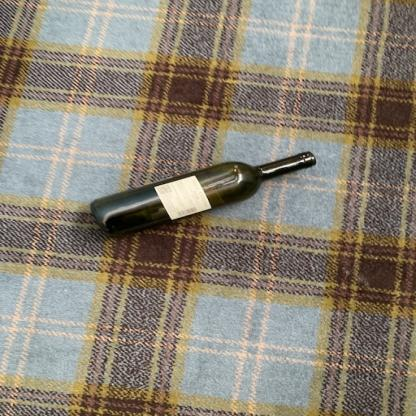trash: (88, 147, 317, 239)
